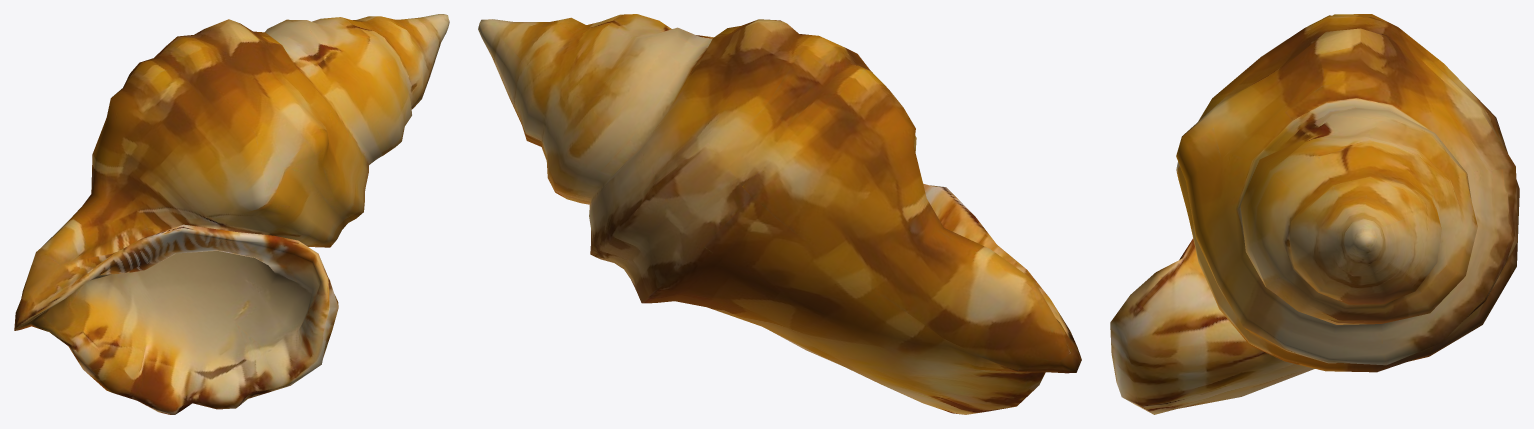
File: conch.glb
The picture shows the model from 3 angles, left to right: view 1: azimuth 30°, elevation 25°; view 2: azimuth 150°, elevation 25°; view 3: azimuth 270°, elevation 25°; orthographic projection. The views are drawn at different scales.
Parts seen in each view (by area): view 1: conch_.001; view 2: conch_.001; view 3: conch_.001.
Boxes of the visible parts, x1=… form: conch_.001: x1=14, y1=14, x2=449, y2=414; conch_.001: x1=478, y1=14, x2=1081, y2=414; conch_.001: x1=1110, y1=14, x2=1519, y2=414.
Size of the model in its own units: 0.391 by 0.2645 by 0.2304.
Materials: 1 (1 with a texture image).
